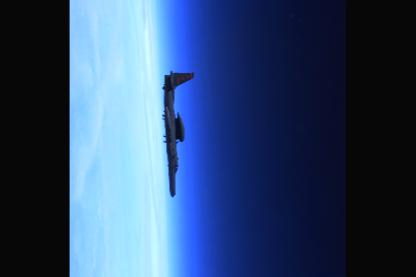Tu160: (162, 69, 194, 196)
